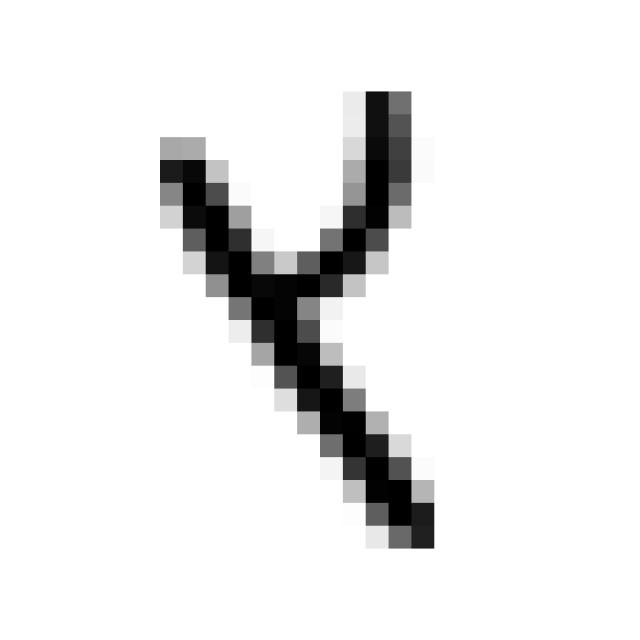3 -three-: (137, 71, 463, 568)
